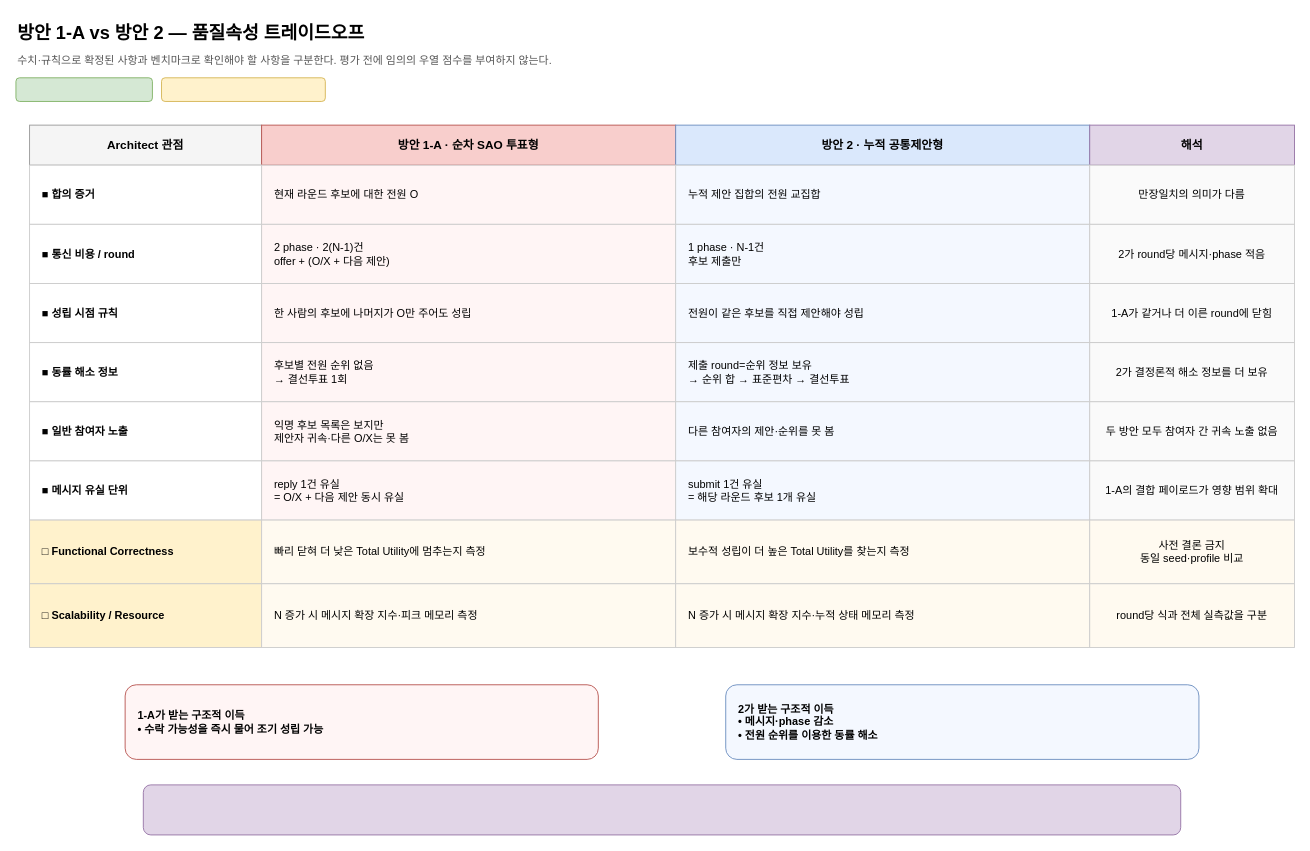
This 1310x851 diagram has some shape labels left out. Here are the shapes that lost their labels. From the top down, the centre of each, then its label:
the point at 83,89: ■ 스펙으로 확정
the point at 243,89: □ 동일 하니스로 측정
the point at 661,809: 선택 원칙 │ 성립 규칙이 만드는 품질 차이는 FC 측정으로, 구조가 만드는 통신·노출·유실 차이는 스펙과 비용 측정으로 판단한다.
